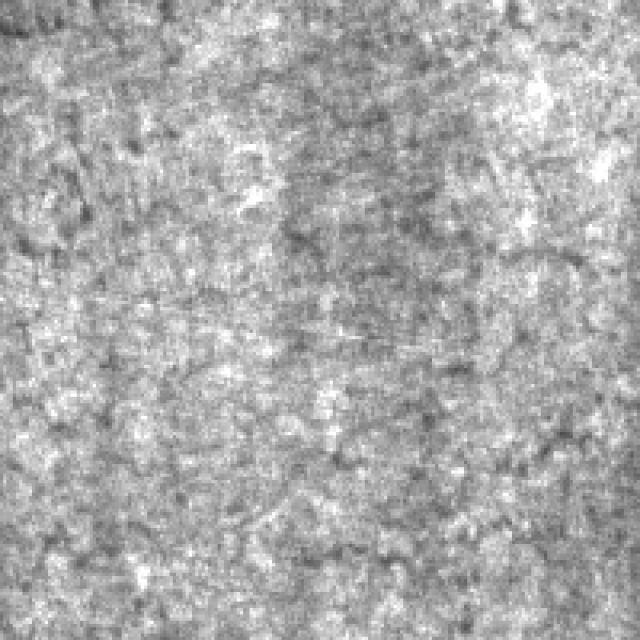crazing: (288, 141, 605, 630), (13, 0, 611, 163)
